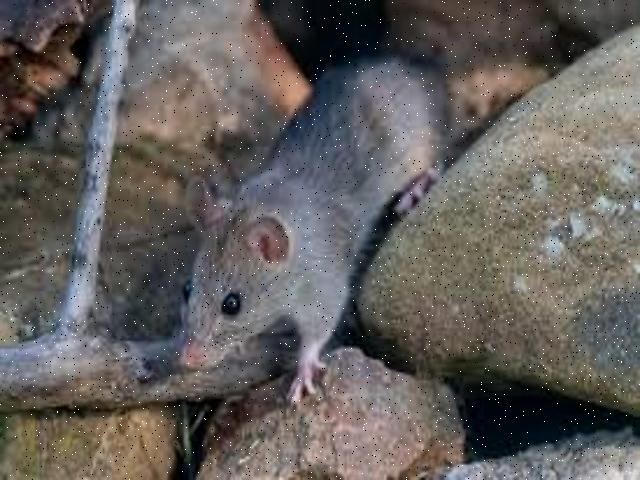Tikus: (178, 51, 446, 405)
